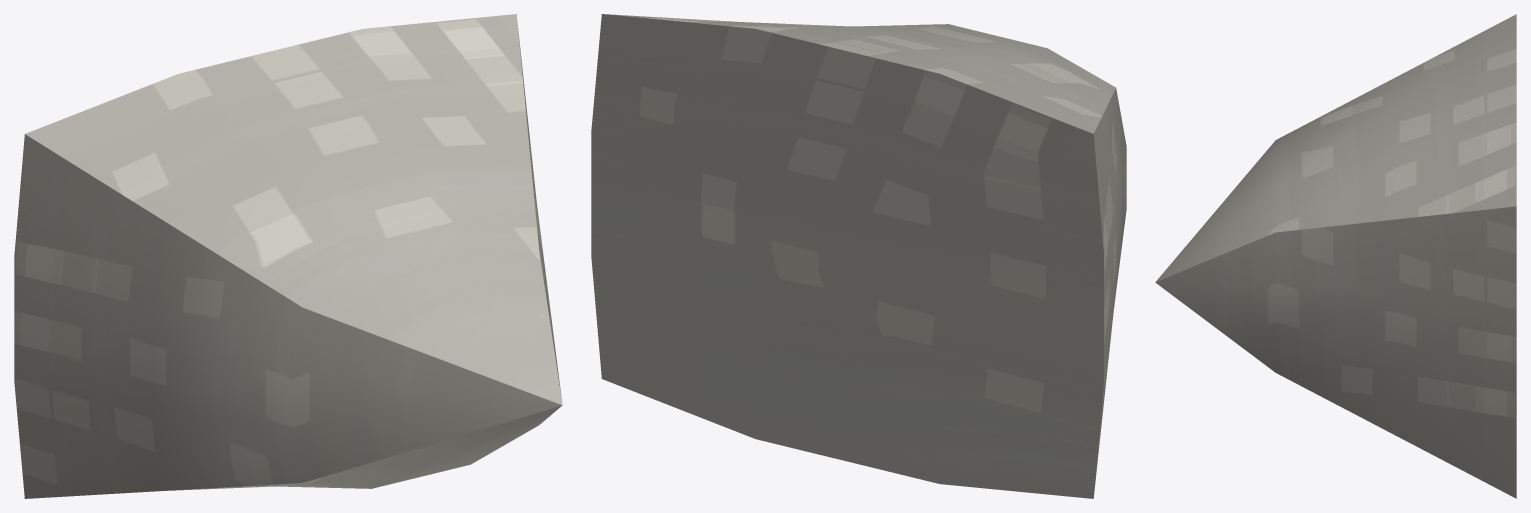
The model's file is doodad-03.obj.
The picture shows the model from 3 angles, left to right: view 1: azimuth 30°, elevation 25°; view 2: azimuth 150°, elevation 25°; view 3: azimuth 270°, elevation 25°; orthographic projection. The views are drawn at different scales.
Visible parts, largest first — view 1: Pyramid002; view 2: Pyramid002; view 3: Pyramid002.
Boxes of the visible parts, x1,y1,x2,y2 form: Pyramid002: (14,14,562,498); Pyramid002: (591,14,1126,498); Pyramid002: (1155,14,1516,498).
Bounding box in the file's own units: 20.42 × 15.61 × 15.56.
